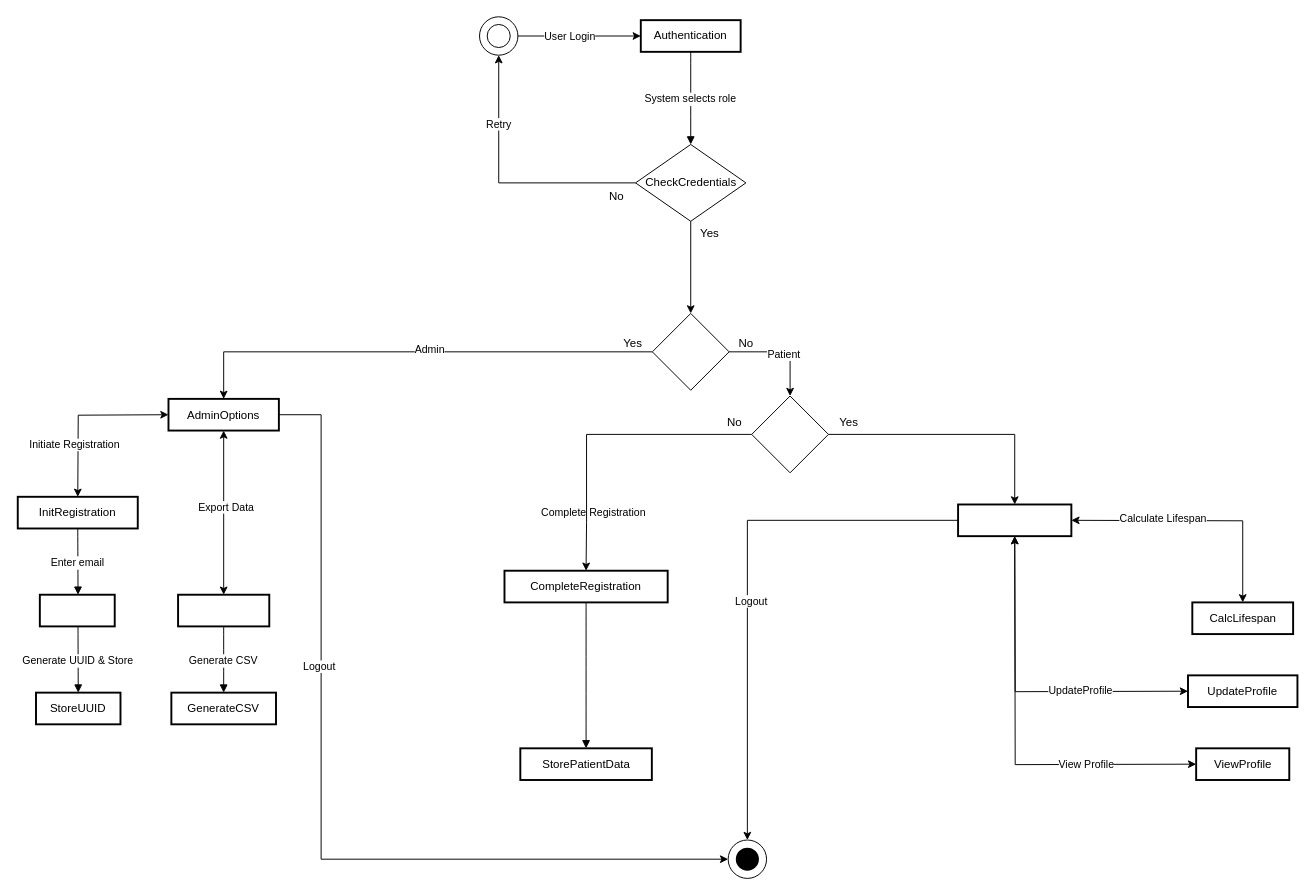
The diagram is 1314 pixels wide and 896 high, and some of its shapes have lost their labels. The shapes that lost their labels are listed below. From the top down, each one's centre as x and y in pixels, then its label:
At point 690,351: "IsAdmin".
At point 789,434: "RegComplete".
At point 1014,520: "PatientActions".
At point 76,610: "GenUUID".
At point 223,610: "ExportData".
